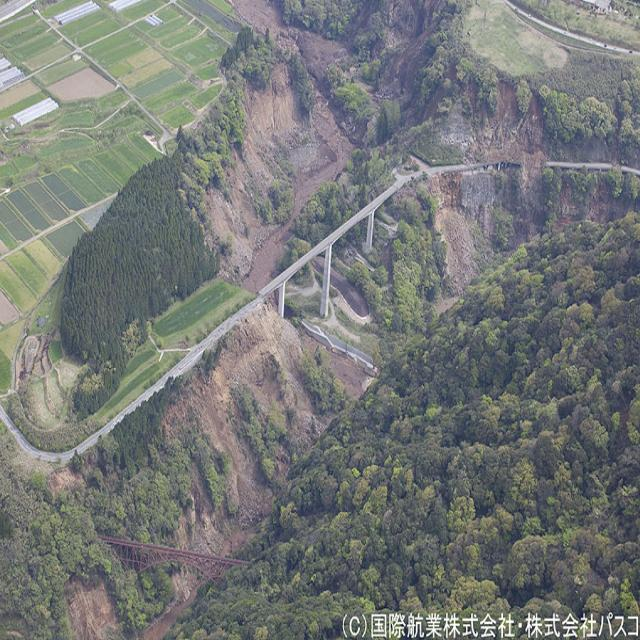Debris-flow: (206, 0, 356, 293), (164, 296, 328, 555), (440, 81, 549, 205), (430, 178, 478, 295), (151, 572, 199, 632), (71, 586, 119, 629), (329, 351, 370, 398)
